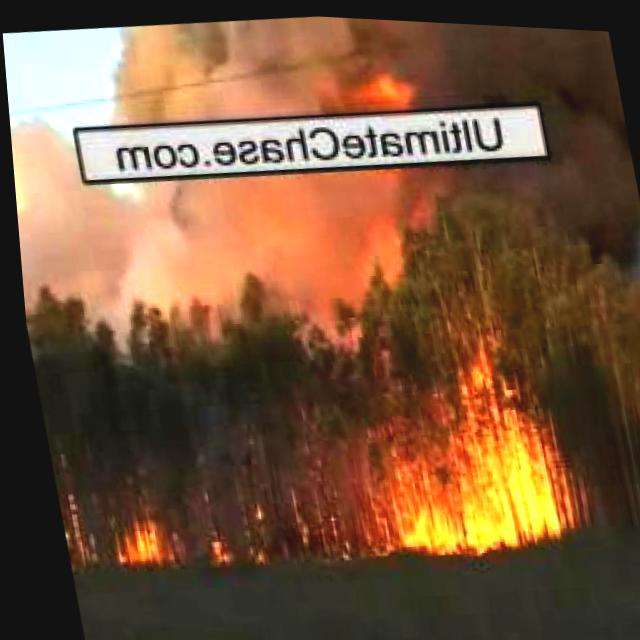helmet: (345, 329, 570, 558), (223, 442, 352, 569), (103, 519, 166, 564), (354, 70, 417, 106), (57, 504, 88, 562), (190, 541, 223, 565)
no_helmet: (8, 122, 640, 361), (81, 3, 621, 140)
